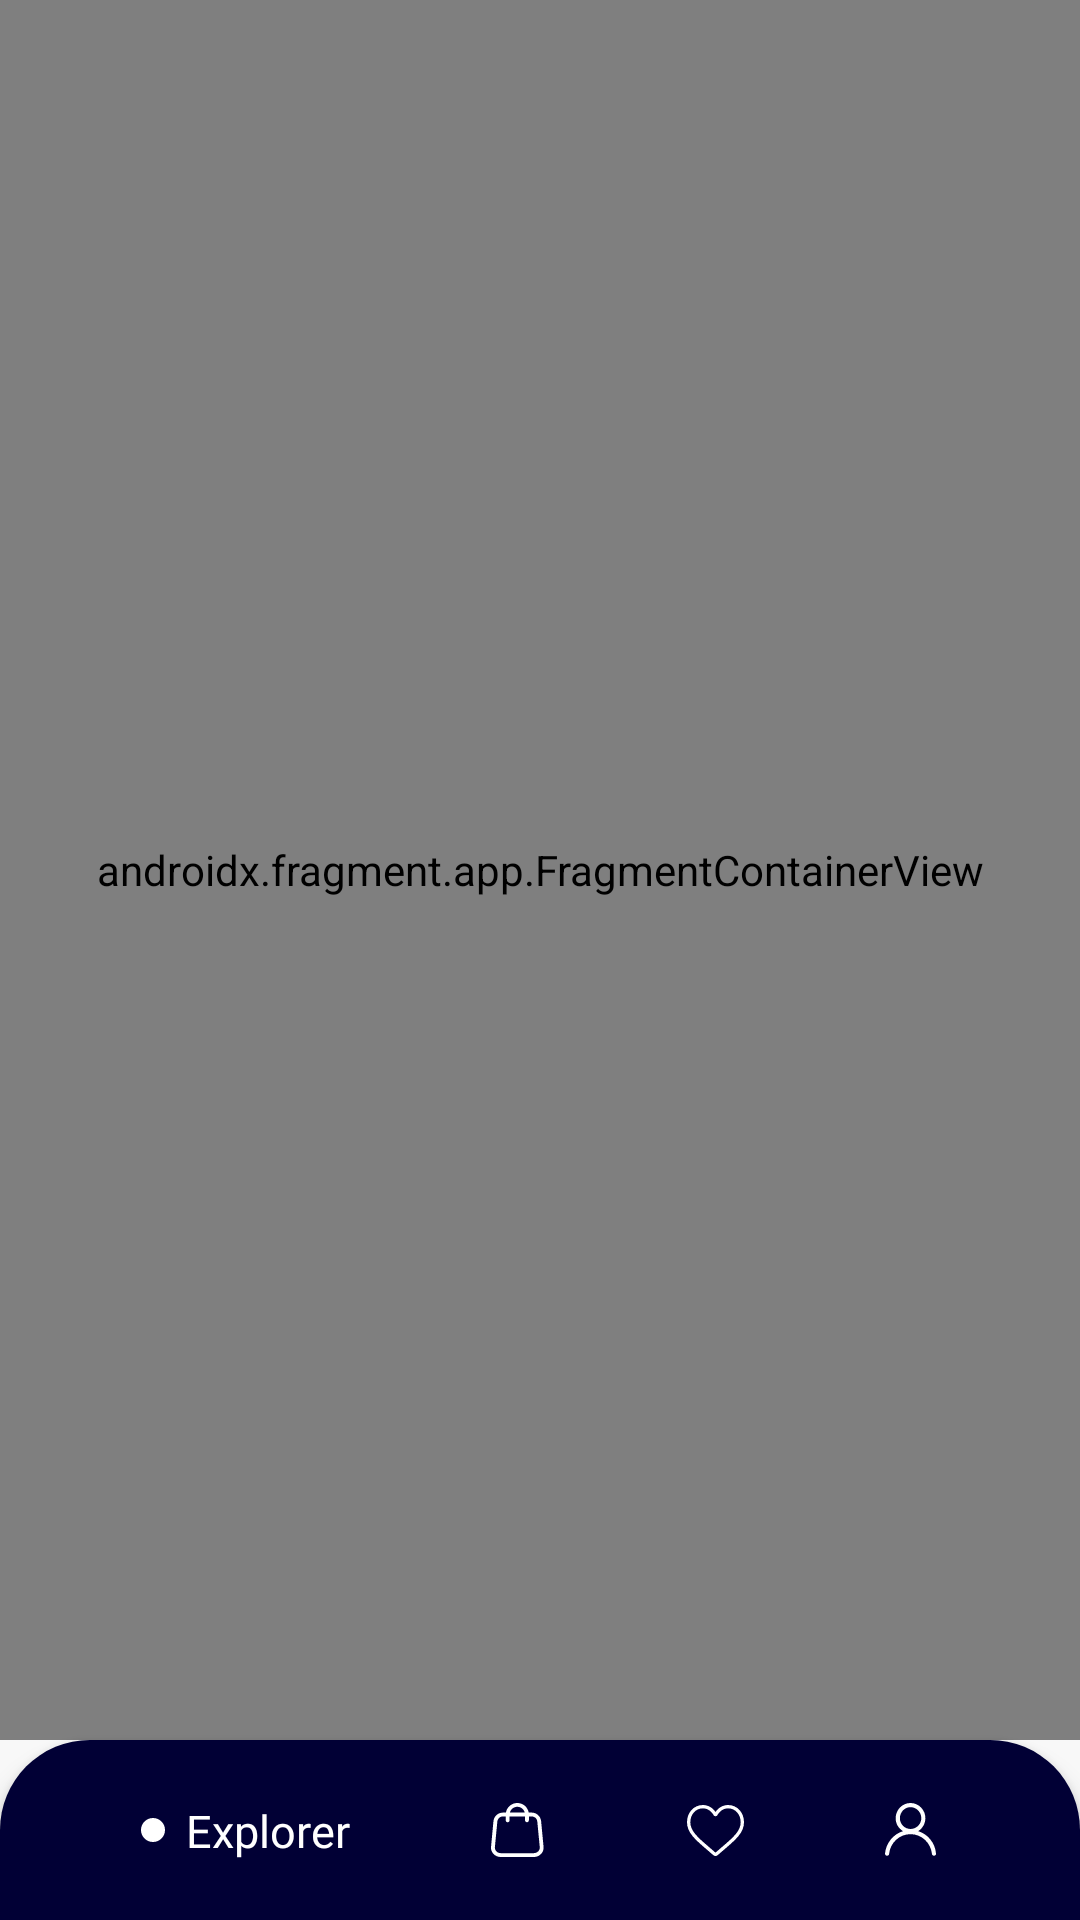

Where icons sit on this 1080×1920 app screen, as box=[x1, y1, x2, y2]:
favorite: box=[687, 1805, 744, 1856]
profile: box=[885, 1803, 936, 1856]
shop: box=[491, 1803, 544, 1857]
